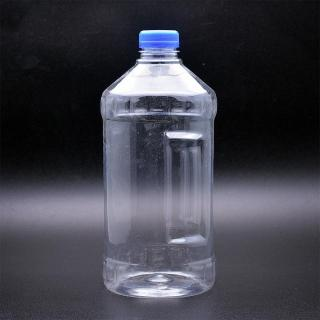Anorganik: (94, 26, 228, 303)
